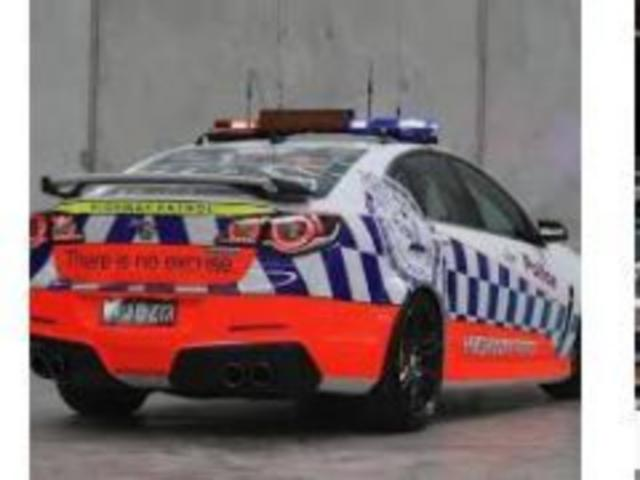police_car: (29, 109, 581, 429)
